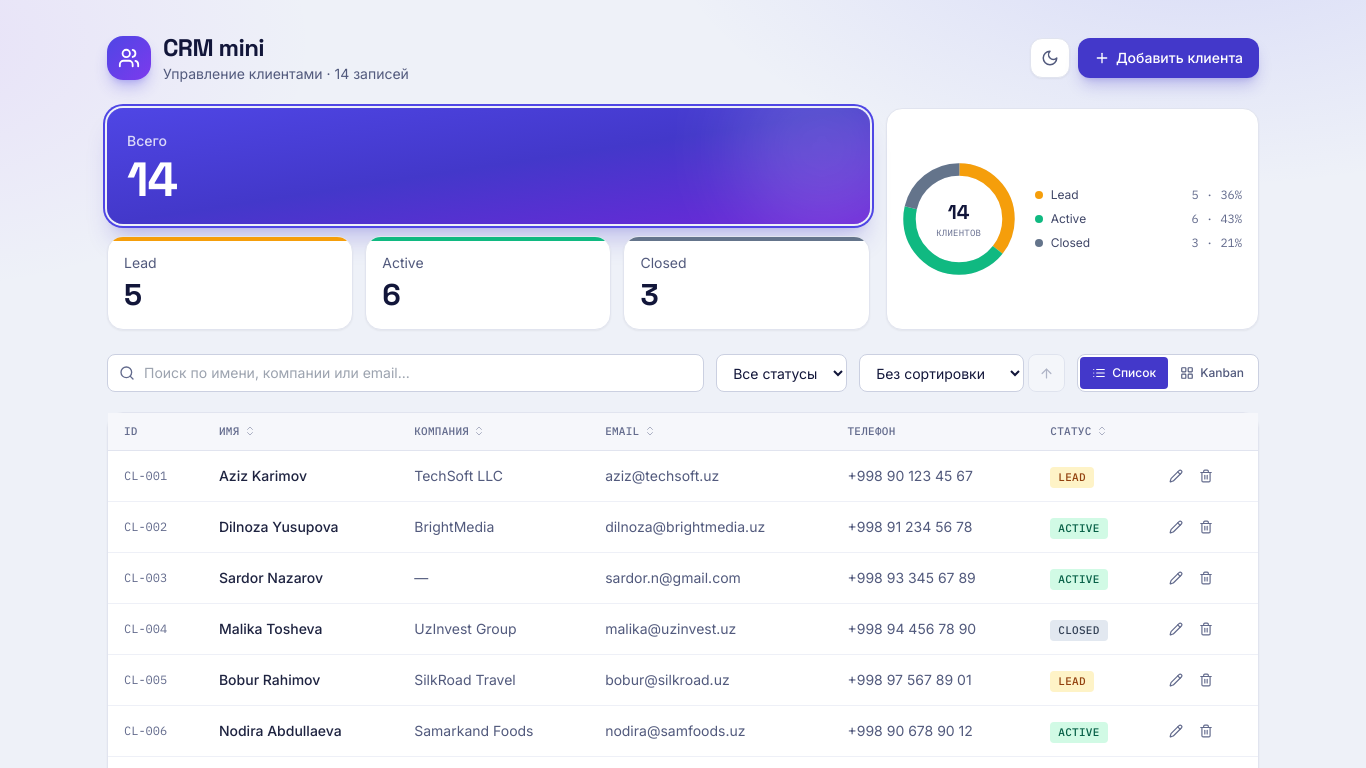
Scenario: add / edit form › edits an existing client
This screenshot has width=1366, height=768.
Click the button named "Редактировать Aziz Karimov" at (1176, 476), box [1163,462,1189,488]
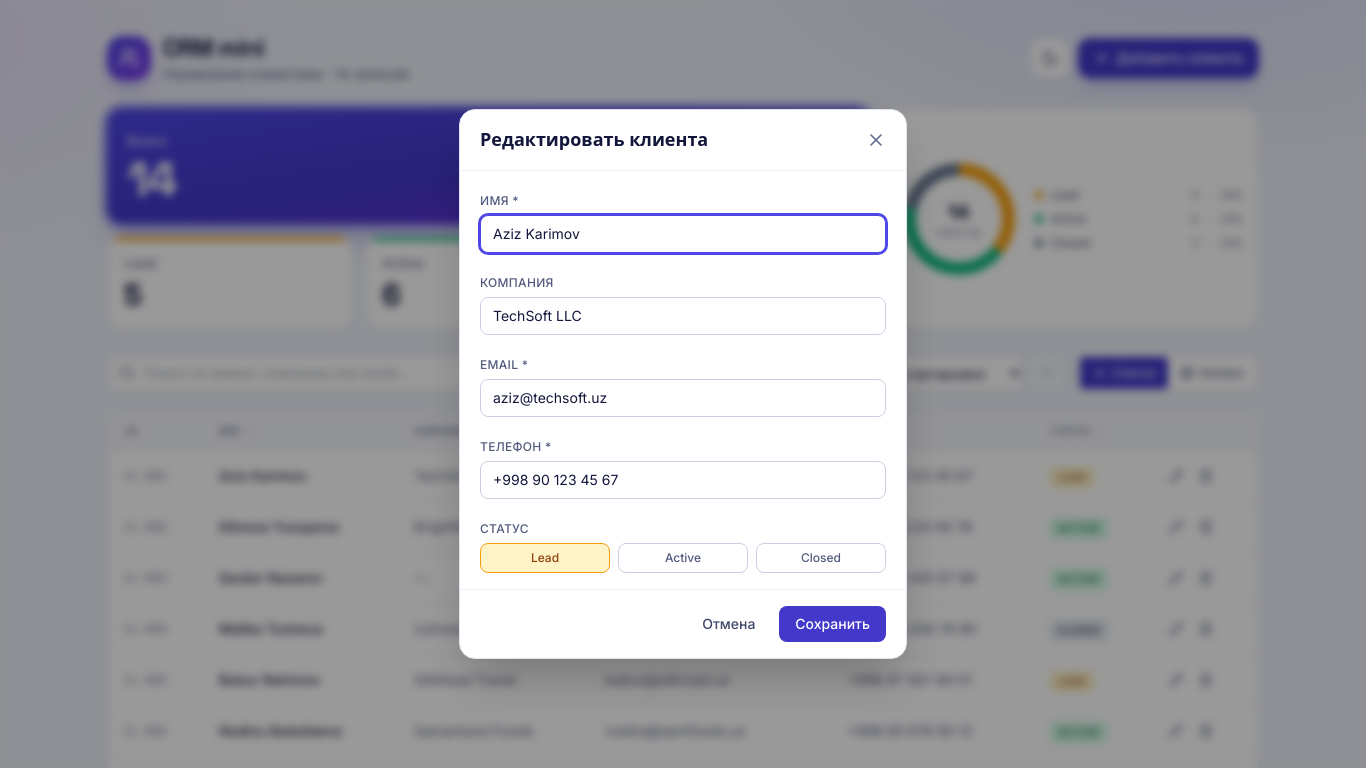
Expected: the field labelled "Имя *" holds "Aziz Karimov"
Replace the text in the field labelled "Имя *" with "Aziz K." at (683, 234), box [480,215,886,253]
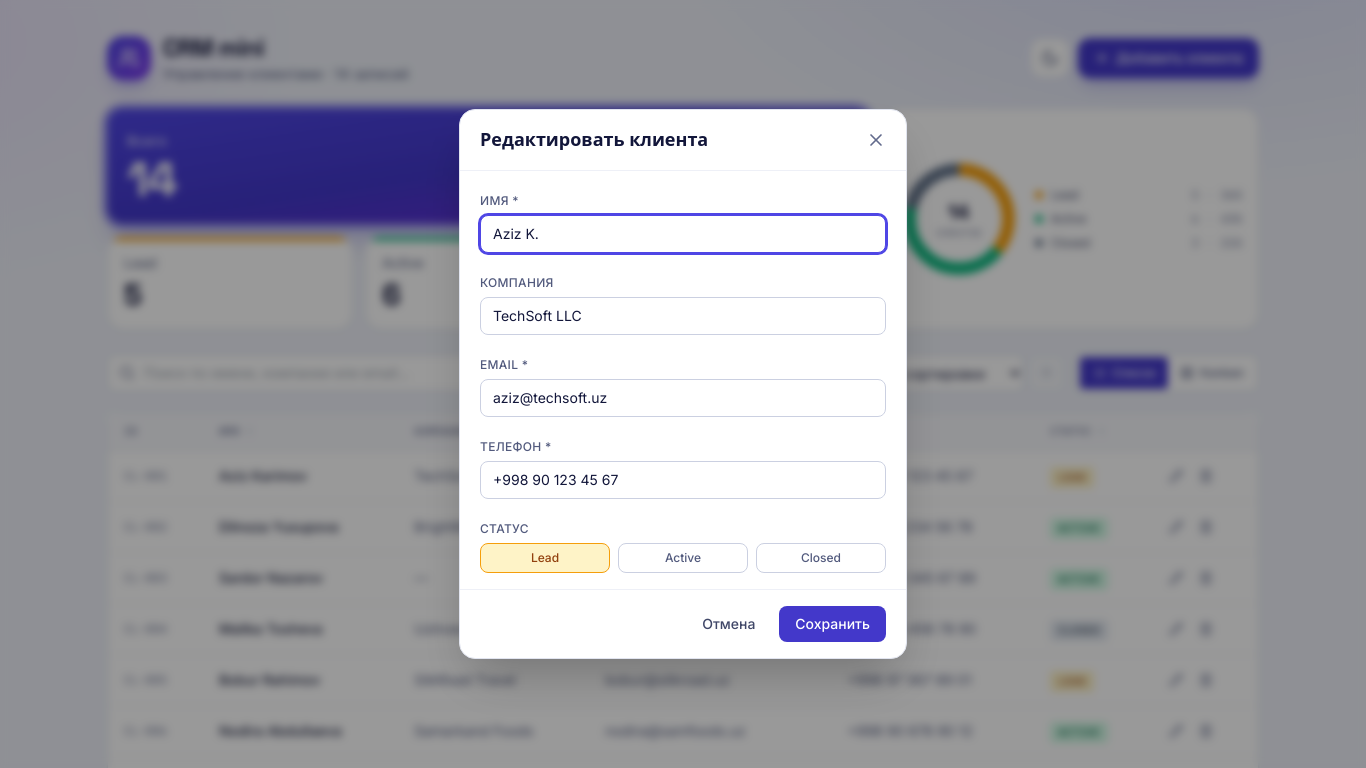
Click the button "Active" at (683, 558), box [618,543,748,573]
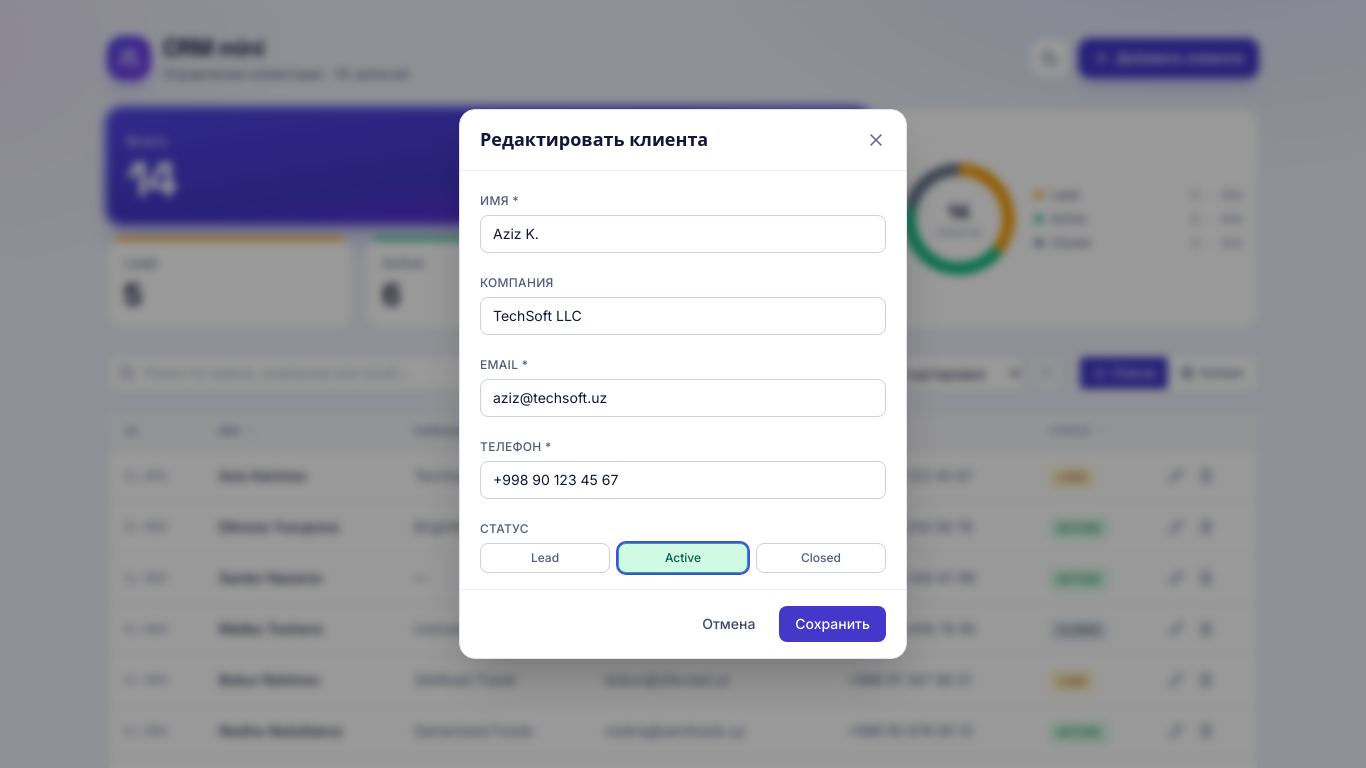
Click the button "Сохранить" at (833, 624), box [779,606,886,642]
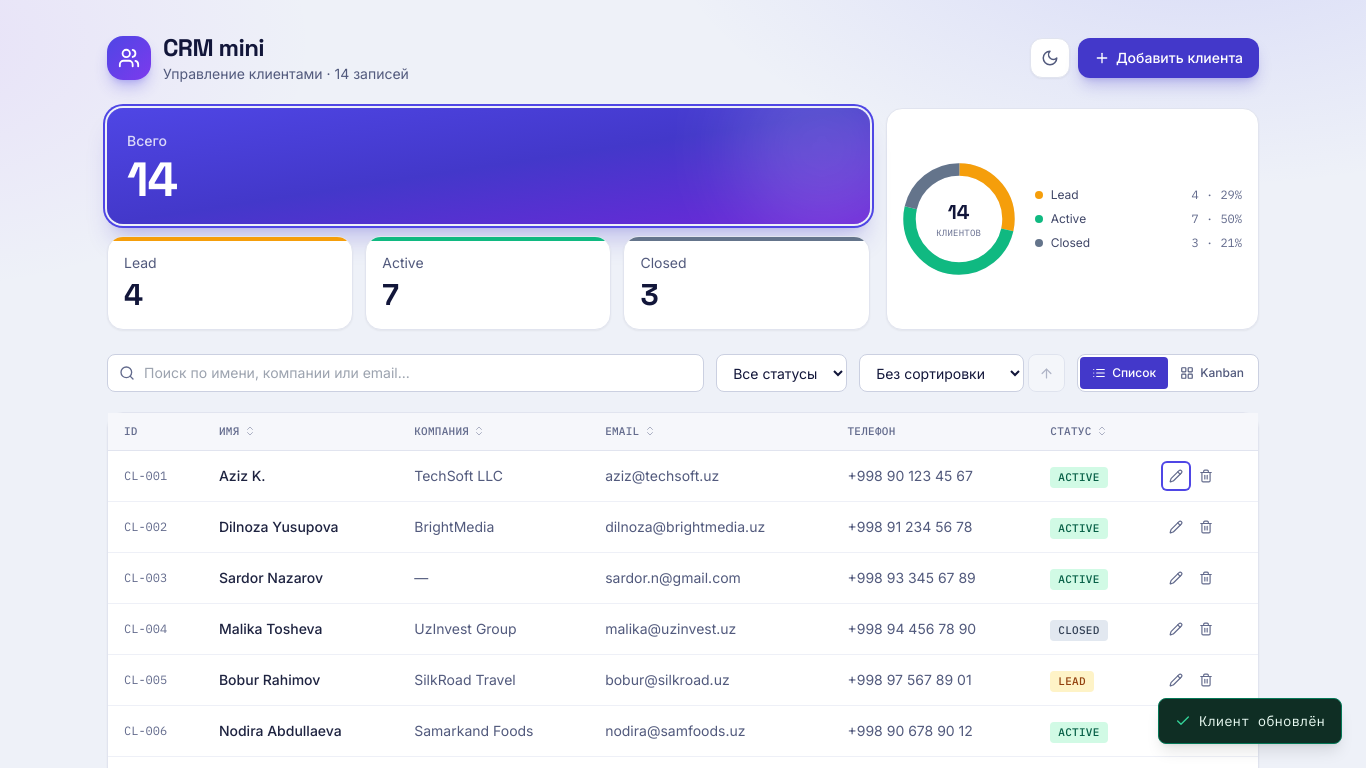
Expected: the text "Aziz K." is shown, [203,450,398,501]
Expected: the message reads "Клиент обновлён", [1199,712,1325,730]
Expected: the button "Active 7" is shown, [365,236,611,330]
